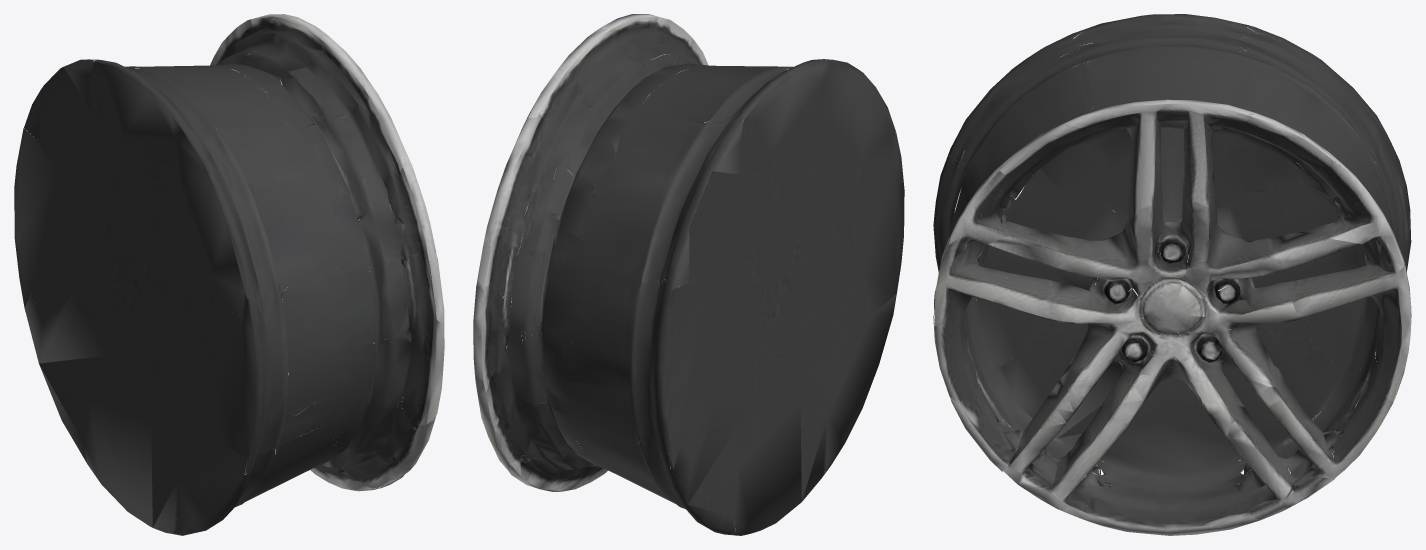
The model's file is common_rim.glb.
3 views of the same model, side by side, from view 1: azimuth 30°, elevation 25°; view 2: azimuth 150°, elevation 25°; view 3: azimuth 270°, elevation 25° (orthographic). The views are drawn at different scales.
Visible parts, largest first — view 1: tripo_node_c54eff79-9c25-44ec-9a8c-8f9827fce099; view 2: tripo_node_c54eff79-9c25-44ec-9a8c-8f9827fce099; view 3: tripo_node_c54eff79-9c25-44ec-9a8c-8f9827fce099.
Part boxes in pixels (left/top/right/bottom): tripo_node_c54eff79-9c25-44ec-9a8c-8f9827fce099: left=14, top=14, right=444, bottom=535; tripo_node_c54eff79-9c25-44ec-9a8c-8f9827fce099: left=473, top=14, right=904, bottom=535; tripo_node_c54eff79-9c25-44ec-9a8c-8f9827fce099: left=933, top=14, right=1411, bottom=535.
Size of the model in its own units: 0.4506 by 0.9989 by 1.
Materials: 1 (1 with a texture image).
